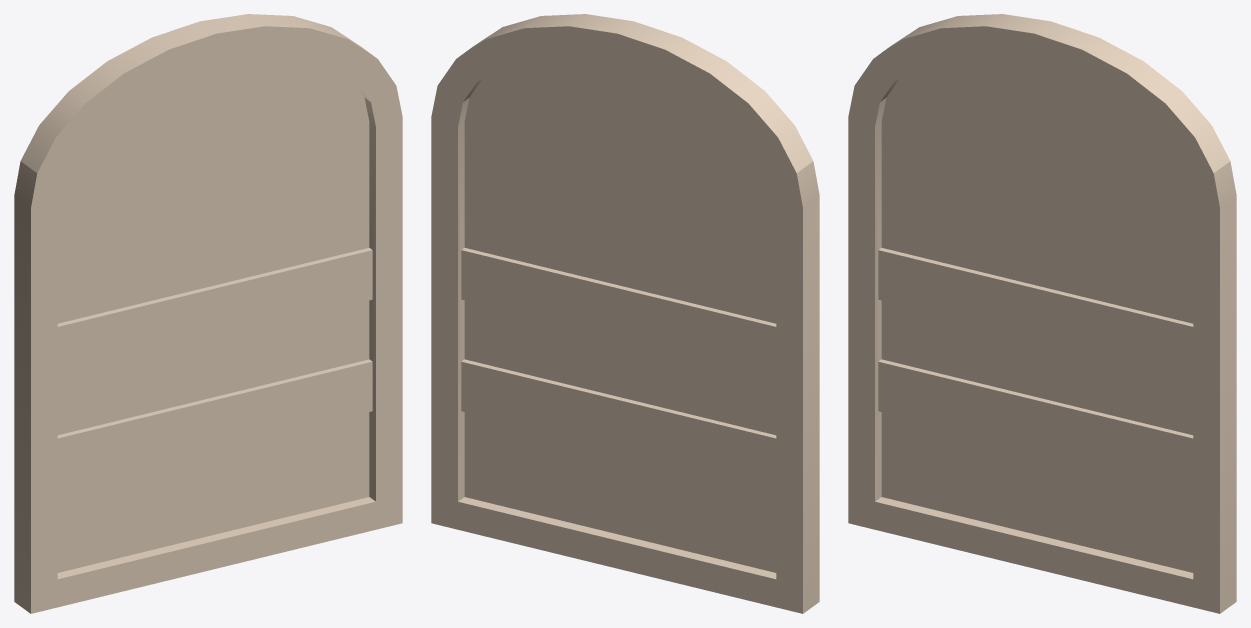
The model's file is gate.fbx.
The picture shows the model from 3 angles, left to right: view 1: azimuth 30°, elevation 25°; view 2: azimuth 150°, elevation 25°; view 3: azimuth 330°, elevation 25°; orthographic projection.
Visible parts, largest first — view 1: gate; view 2: gate; view 3: gate.
Part boxes in pixels (bbox=[...]): gate: bbox=[14, 14, 402, 613]; gate: bbox=[431, 14, 819, 613]; gate: bbox=[848, 14, 1236, 613].
Bounding box in the file's own units: 199 × 273 × 15.48.
